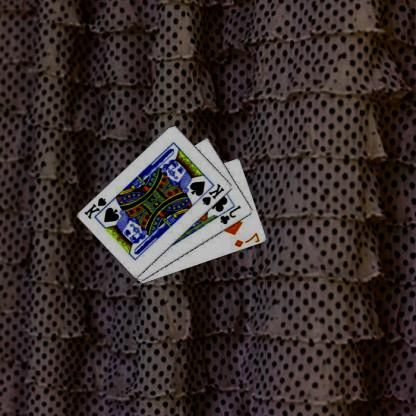7D: (234, 230, 262, 248)
JC: (220, 202, 244, 225)
KS: (83, 195, 114, 220), (202, 181, 228, 207)
